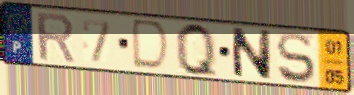7: (81, 18, 113, 64)
D: (130, 17, 172, 73)
N: (229, 26, 274, 82)
Q: (174, 20, 221, 81)
R: (33, 11, 77, 65)
S: (274, 31, 318, 86)
